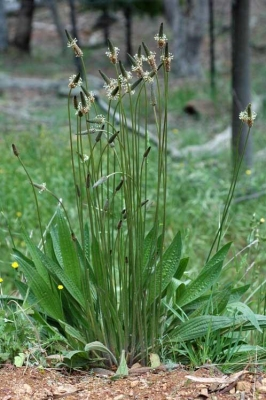buckhorn plantain: (10, 24, 256, 365)
